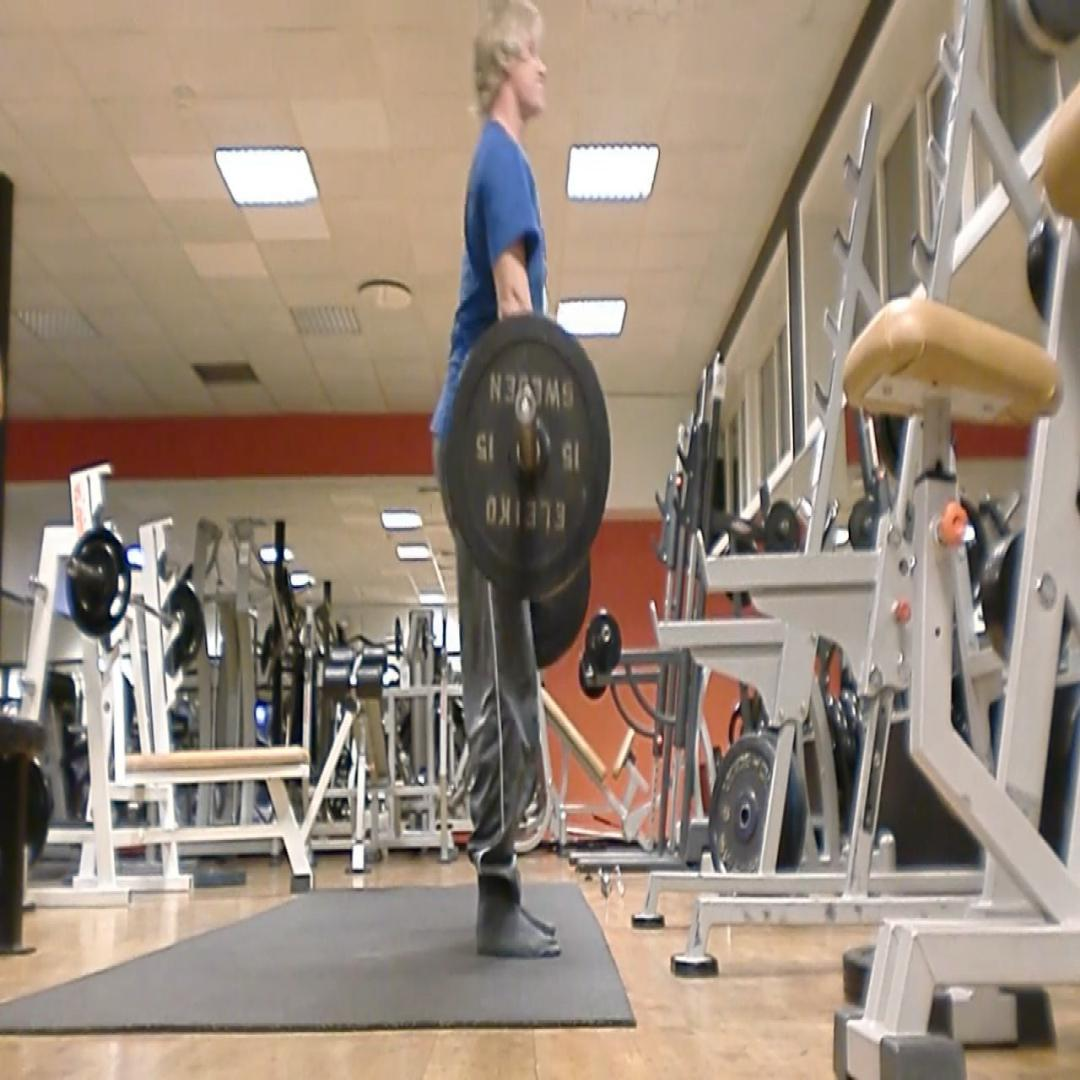Bar: (514, 386, 537, 426)
Barbell: (445, 314, 611, 600)
